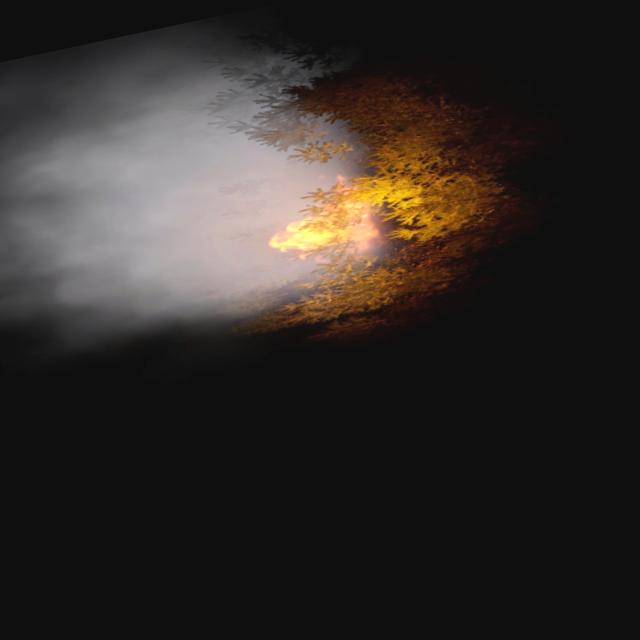fire: (254, 168, 382, 276)
smoke: (0, 0, 386, 374)
